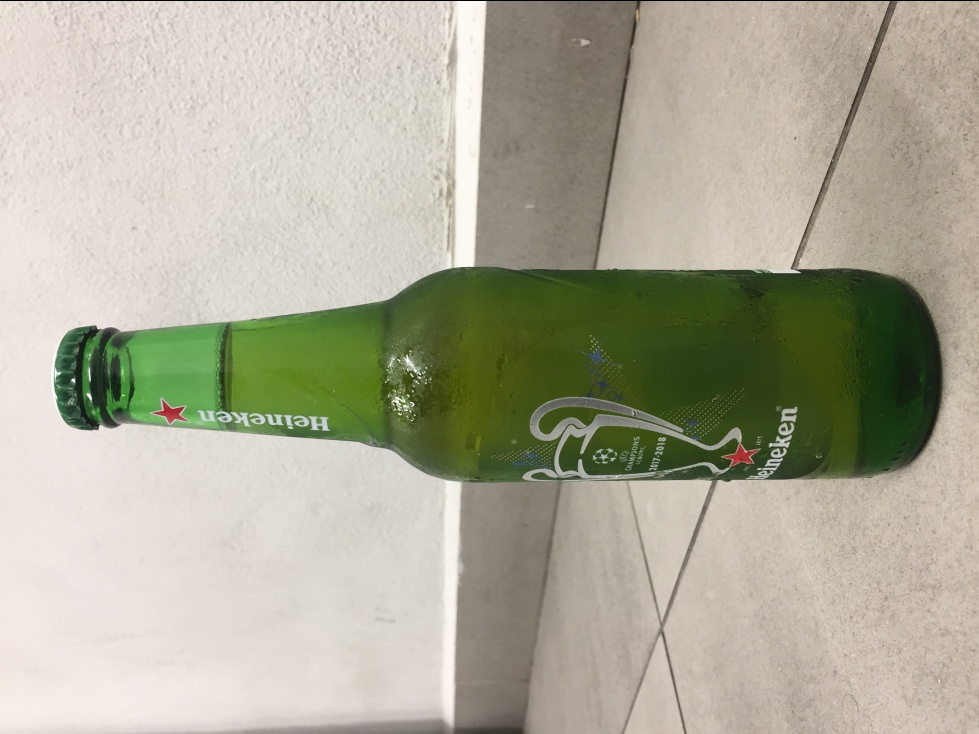heineken: (51, 267, 944, 483)
